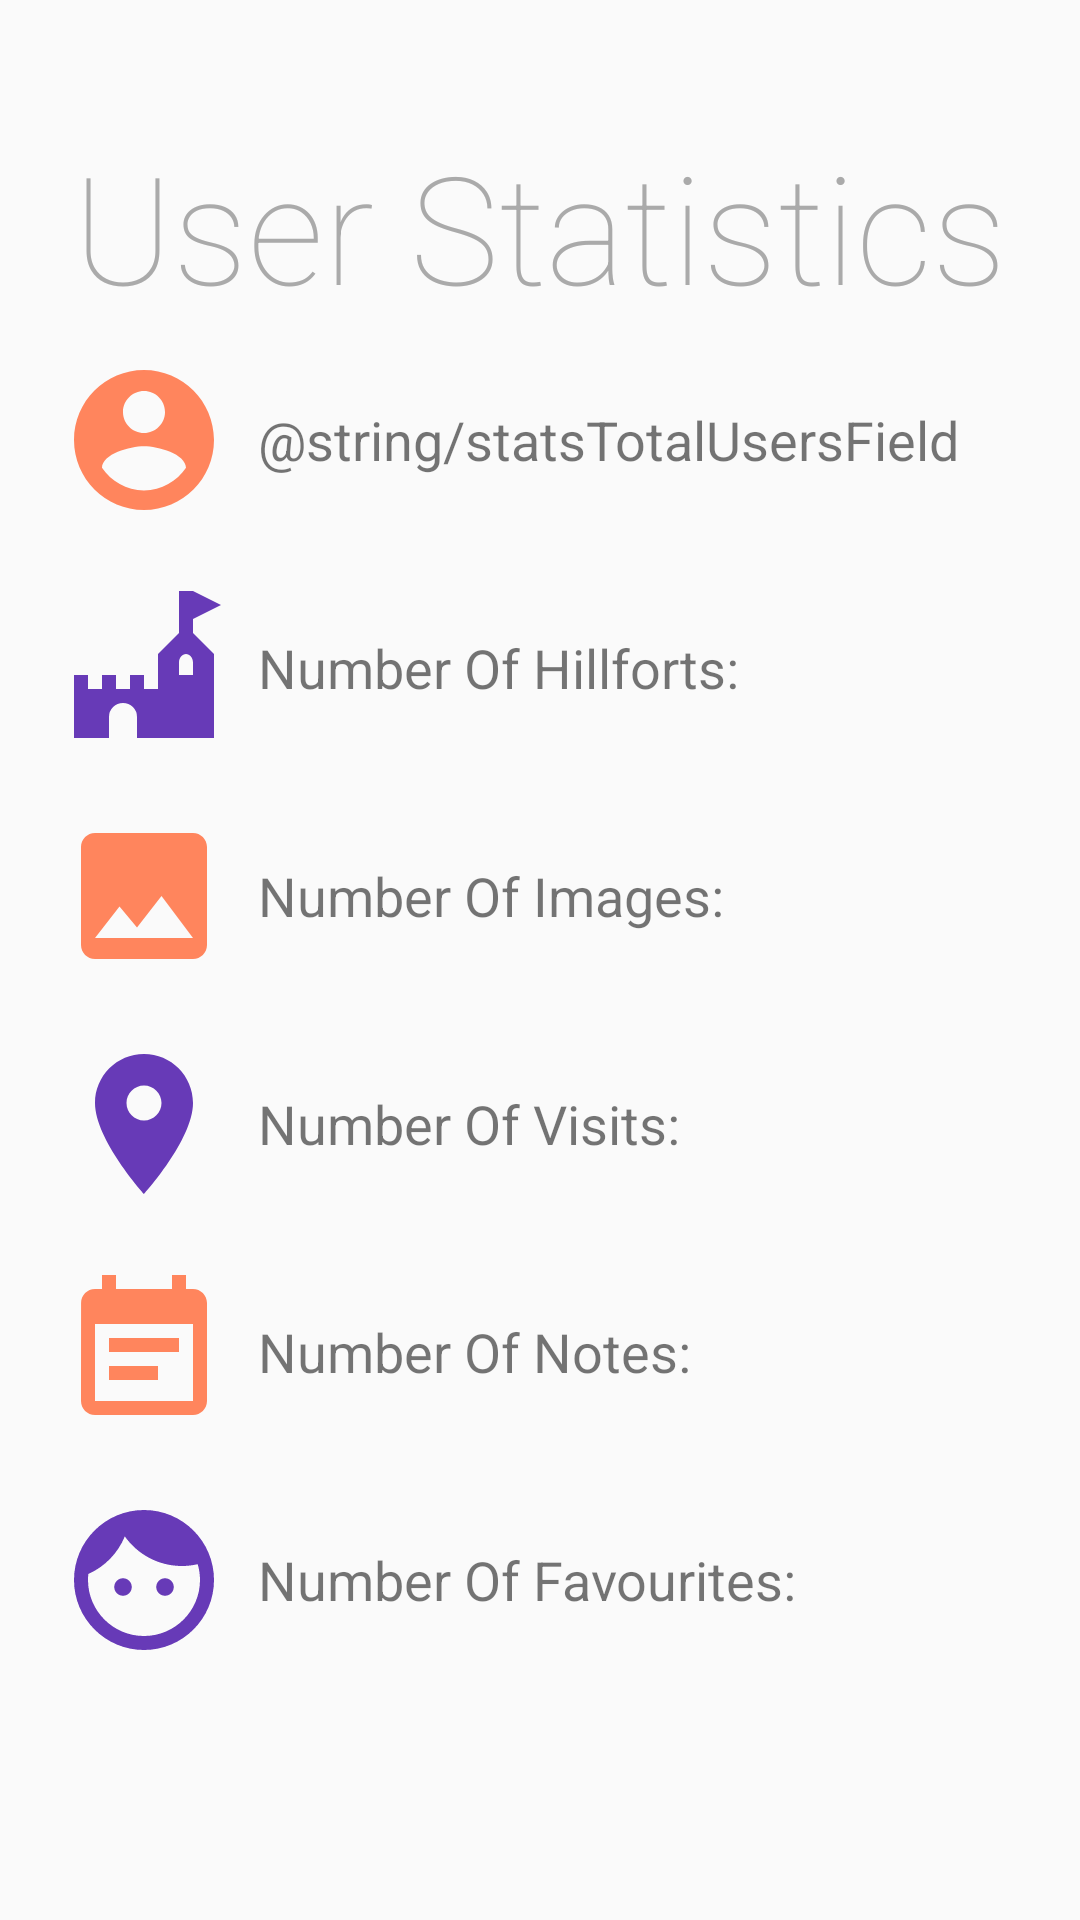

Where icons sit on this 1080 × 1920 app screen, as (x1, y1, x2, y2):
account: (74, 370, 214, 510)
castle: (74, 591, 221, 738)
visited: (95, 1054, 193, 1194)
